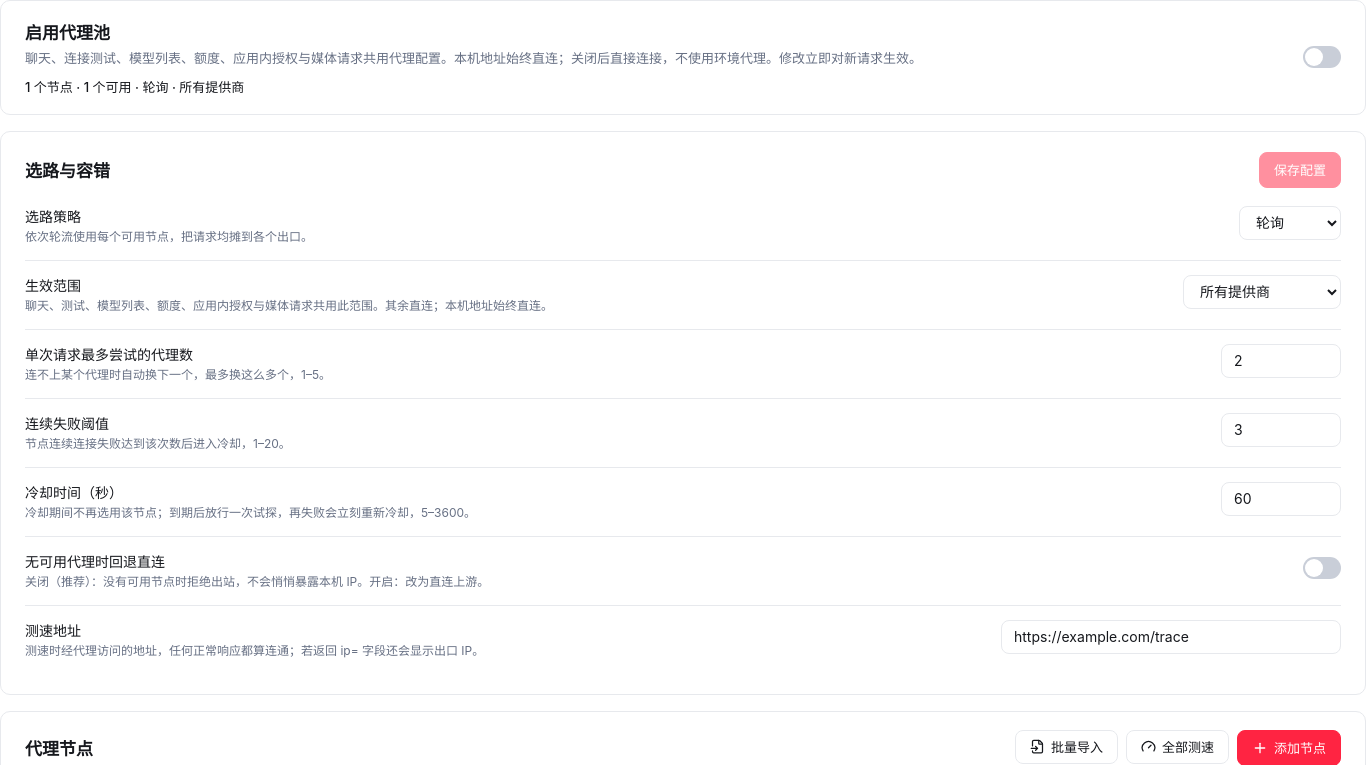
Test case: ProxyPoolView › 保存失败时显示后端错误
This screenshot has width=1366, height=765.
Step 1. Select "随机" in the dropdown with test id "strategy" → (1290, 223), box 1239,206 -> 1341,240
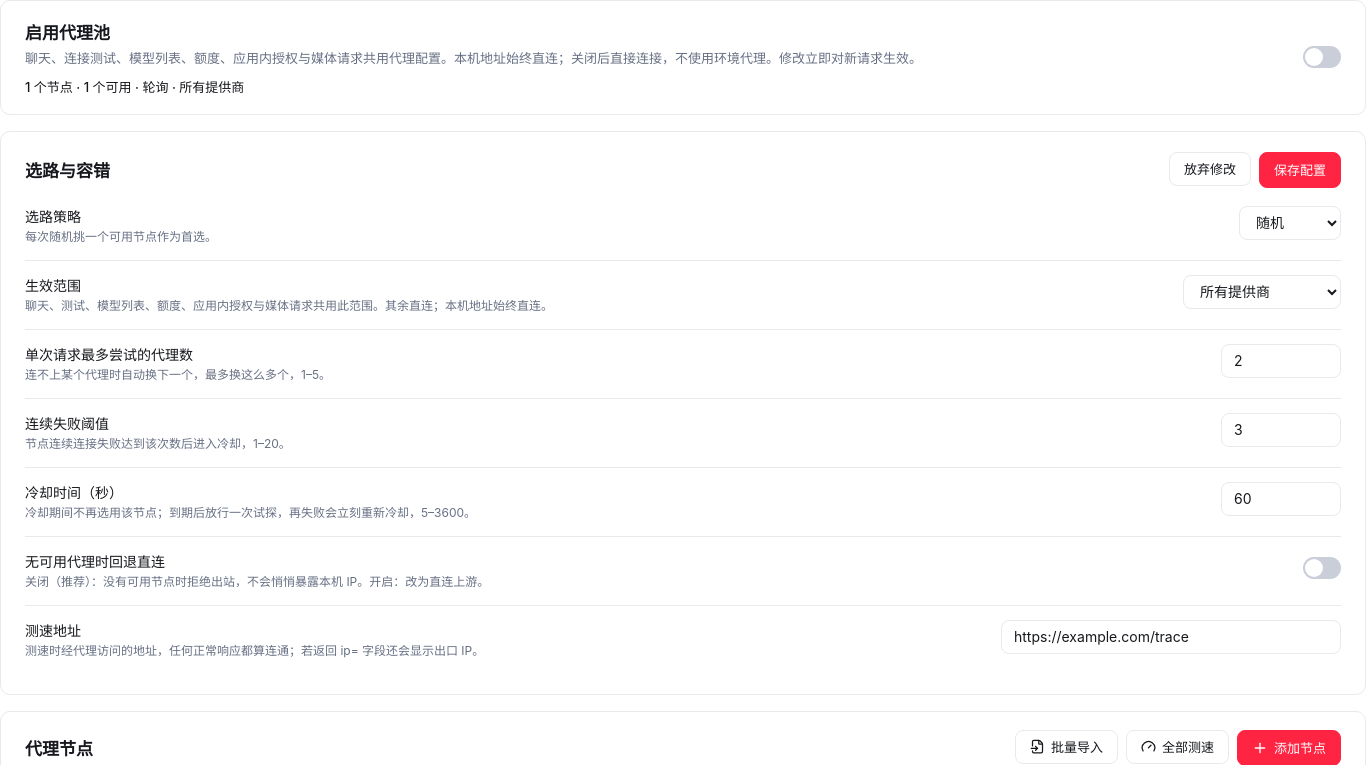
Step 2. Click the button with test id "save-config" → (1300, 170), box 1259,152 -> 1341,188
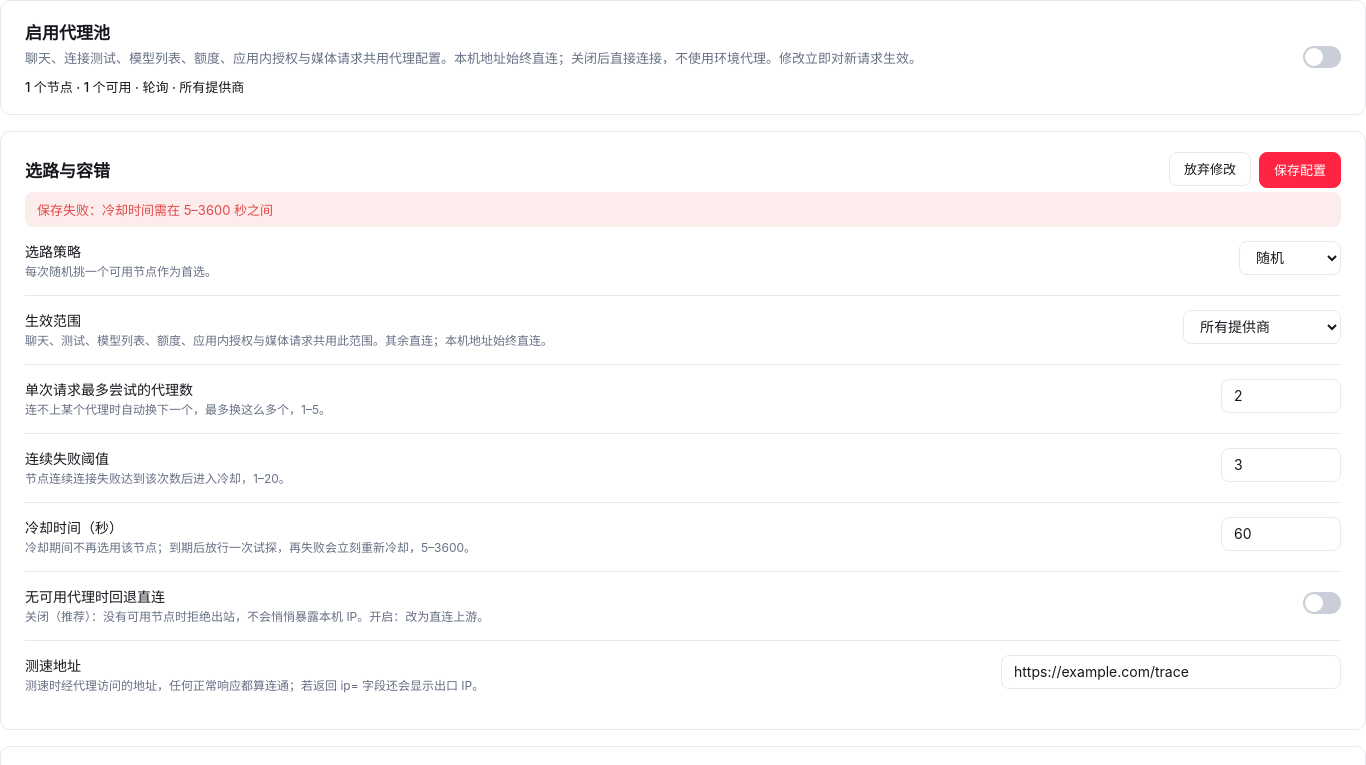
expect the message with test id "config-error" shows "冷却时间": met, box 37,202 -> 273,218
